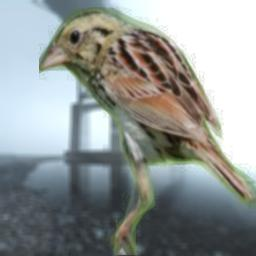Sparrow: (39, 7, 256, 255)
